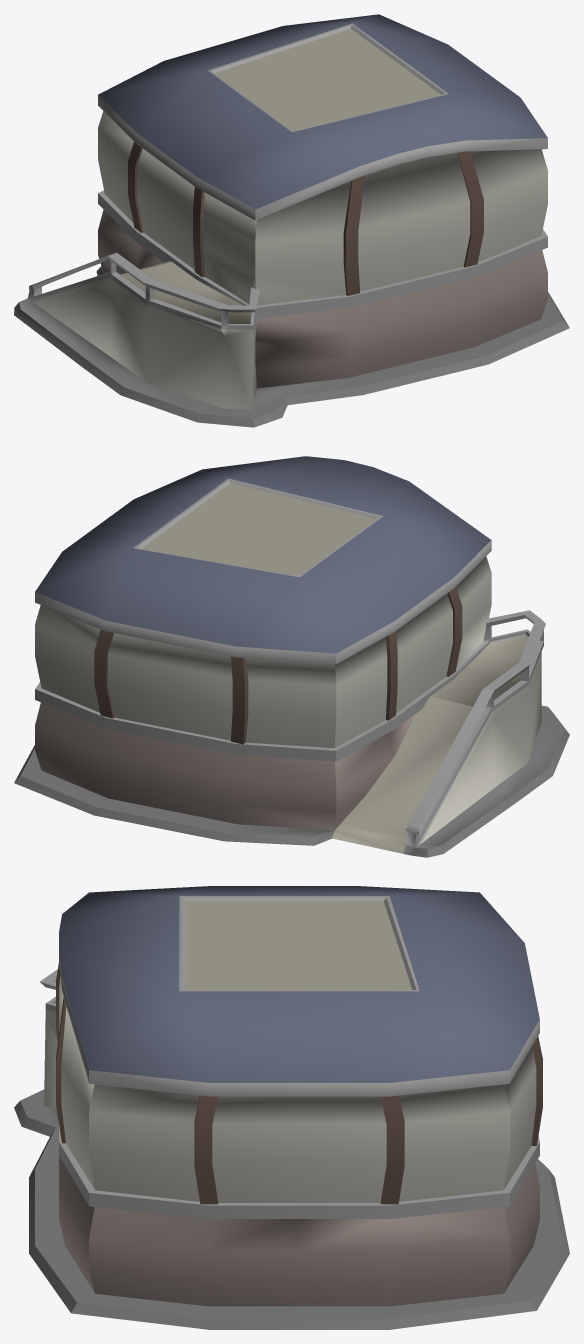
The model's file is p-bld-safehouse.glb.
3 views of the same model, one above another, from view 1: azimuth 30°, elevation 25°; view 2: azimuth 150°, elevation 25°; view 3: azimuth 270°, elevation 25° (orthographic). The views are drawn at different scales.
Parts seen in each view (by area): view 1: Cube-col; view 2: Cube-col; view 3: Cube-col.
Part boxes in pixels (x1,y1,x2,y2): Cube-col: [14, 14, 569, 427]; Cube-col: [14, 456, 569, 857]; Cube-col: [14, 886, 569, 1329].
Bounding box in the file's own units: 20.7 × 10.1 × 18.5.
